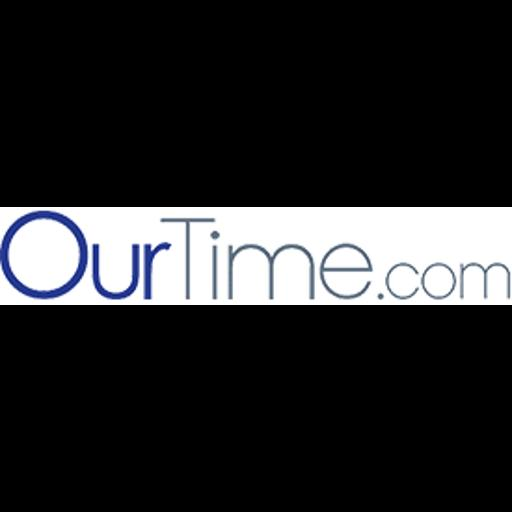OurTime Dating: (0, 207, 512, 305)
